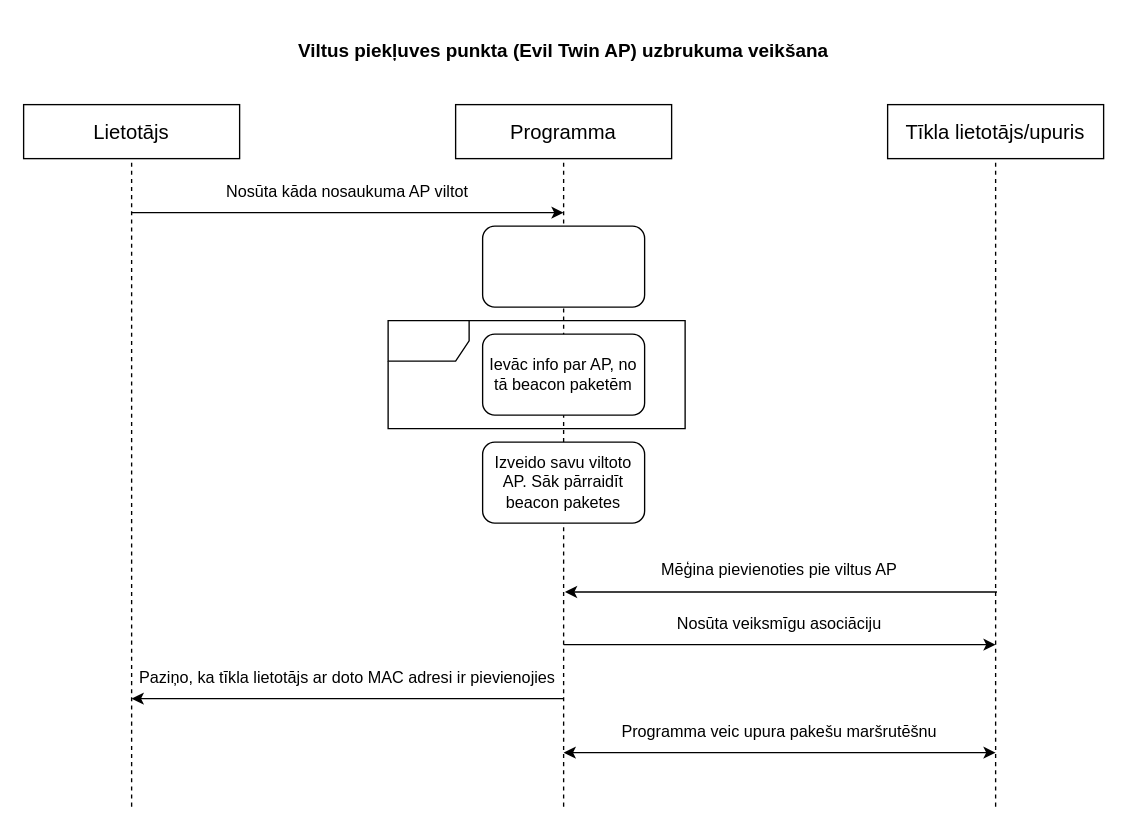
Some shapes in this 1127 by 832 pixel diagram are drawn without their labels. The box of each missing label's shape, as (x1, y1, x2, y2) in pixels:
Ja eksistē: (387, 319, 685, 429)
Pārbauda vai AP ar piedāvāto nosaukumu eksistē: (481, 225, 645, 307)
